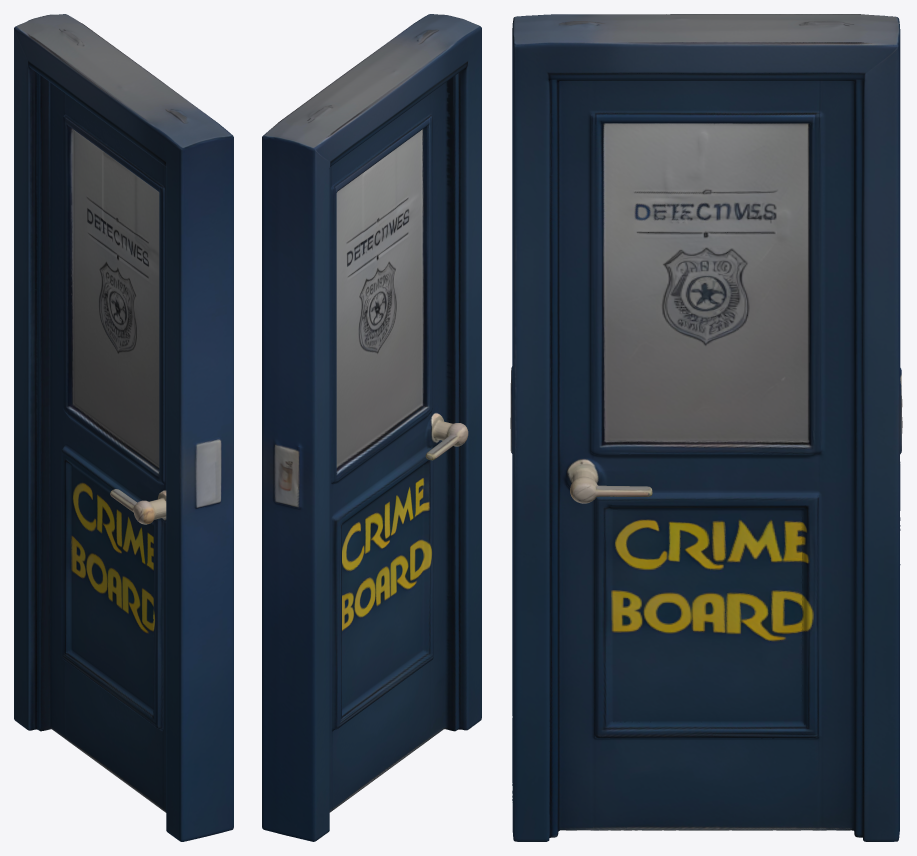
Rendered from crimeboarddoor.glb.
3 views of the same model, side by side, from view 1: azimuth 30°, elevation 25°; view 2: azimuth 150°, elevation 25°; view 3: azimuth 270°, elevation 25° (orthographic). The views are drawn at different scales.
Visible parts, largest first — view 1: tripo_node_d50894e2-55f1-4353-b736-8c68bfa2fe7f; view 2: tripo_node_d50894e2-55f1-4353-b736-8c68bfa2fe7f; view 3: tripo_node_d50894e2-55f1-4353-b736-8c68bfa2fe7f.
Part boxes in pixels (x1,y1,x2,y2): tripo_node_d50894e2-55f1-4353-b736-8c68bfa2fe7f: (14, 14, 233, 841); tripo_node_d50894e2-55f1-4353-b736-8c68bfa2fe7f: (262, 14, 481, 841); tripo_node_d50894e2-55f1-4353-b736-8c68bfa2fe7f: (510, 14, 902, 841).
Bounding box in the file's own units: 0.1201 × 1 × 0.4411.
1 material, 1 textured.
